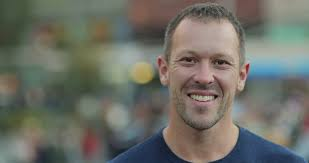white_male: (157, 27, 247, 123)
